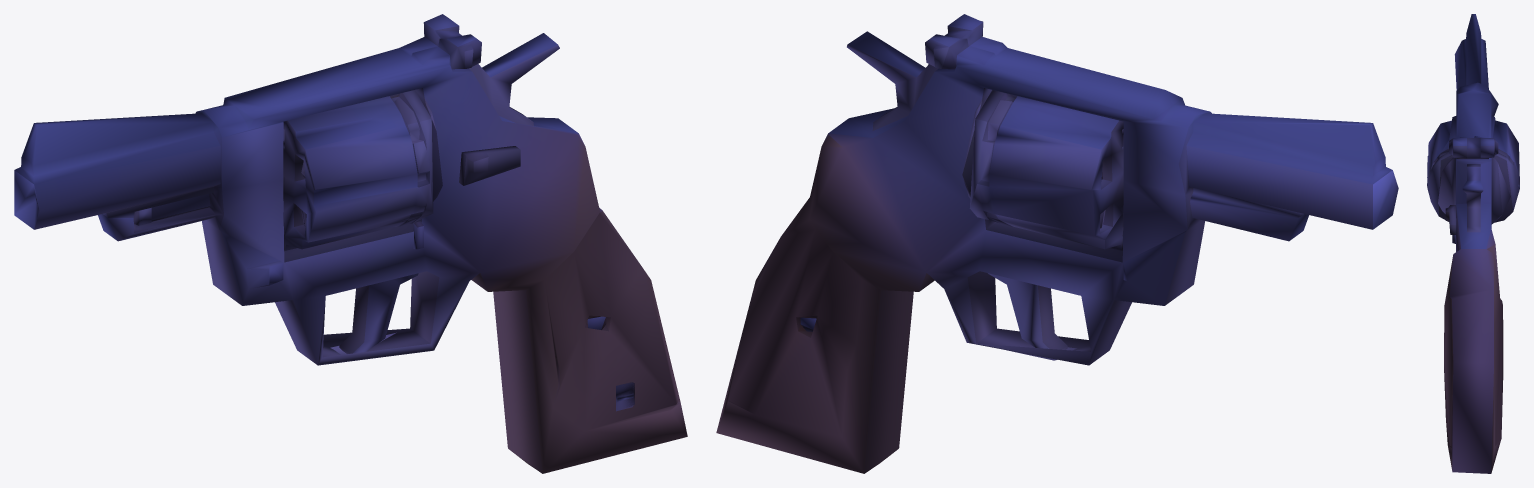
Rendered from model.progressive.glb.
The picture shows the model from 3 angles, left to right: view 1: azimuth 30°, elevation 25°; view 2: azimuth 150°, elevation 25°; view 3: azimuth 270°, elevation 25°; orthographic projection. The views are drawn at different scales.
Visible parts, largest first — view 1: material; view 2: material; view 3: material.
Boxes of the visible parts, left/top/right/bottom form: material: left=14, top=14, right=687, bottom=473; material: left=716, top=14, right=1398, bottom=473; material: left=1427, top=14, right=1519, bottom=473.
Bounding box in the file's own units: 1.88 × 1.27 × 0.3867.
1 material, 1 textured.
